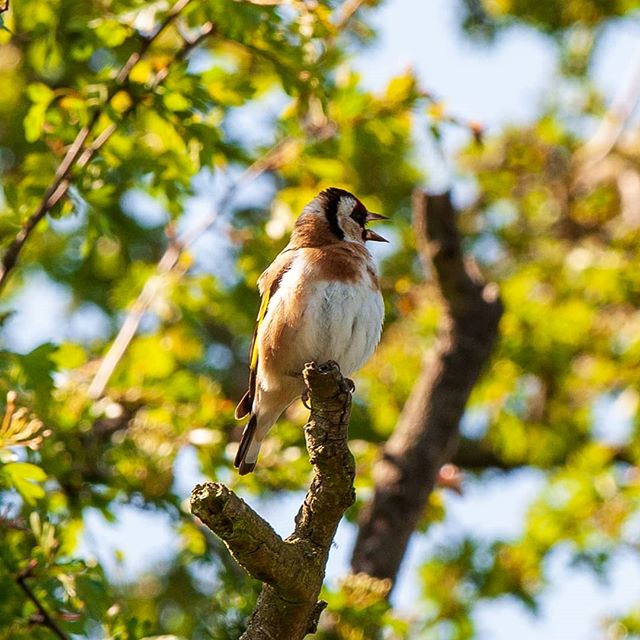animal: (233, 195, 391, 468)
vegetation: (3, 1, 640, 631)
